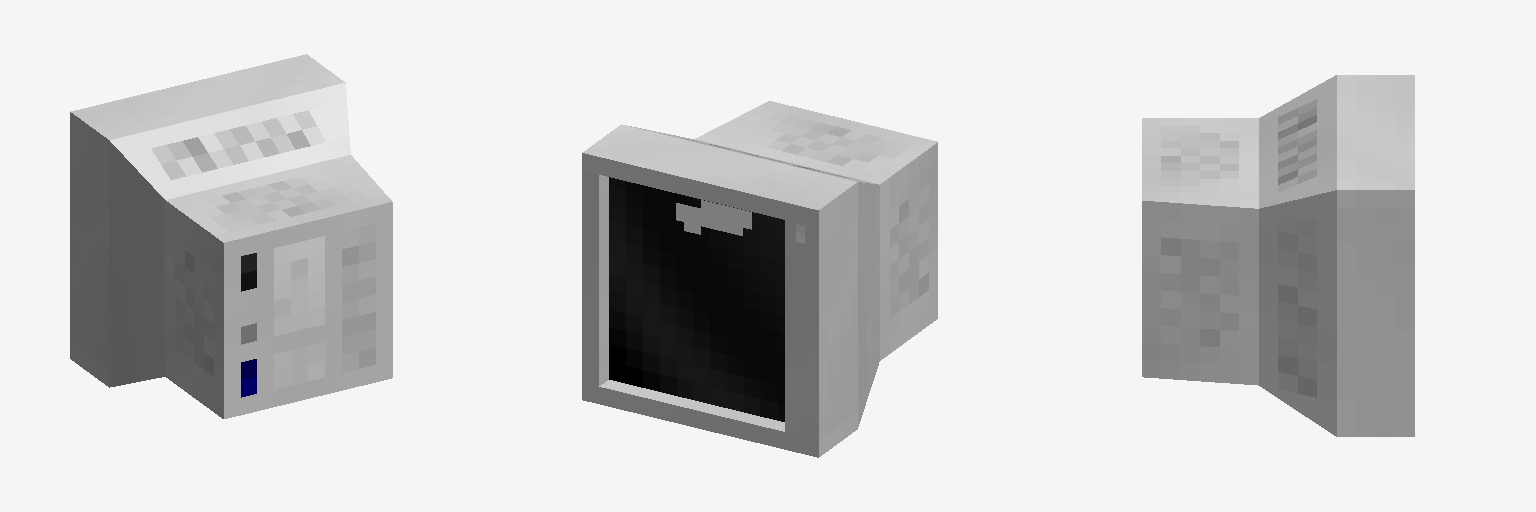
The picture shows the model from 3 angles: view 1: azimuth 30°, elevation 25°; view 2: azimuth 150°, elevation 25°; view 3: azimuth 270°, elevation 25°; orthographic projection.
Parts seen in each view (by area): view 1: main; view 2: main, reflection; view 3: main.
Part boxes in pixels (x1,y1,x2,y2): main: (70,54,392,418); main: (582,101,937,457); reflection: (676,200,751,235); main: (1142,75,1414,436).
Bounding box in the file's own units: 0.875 × 0.875 × 0.885.
3 materials, 2 textured.